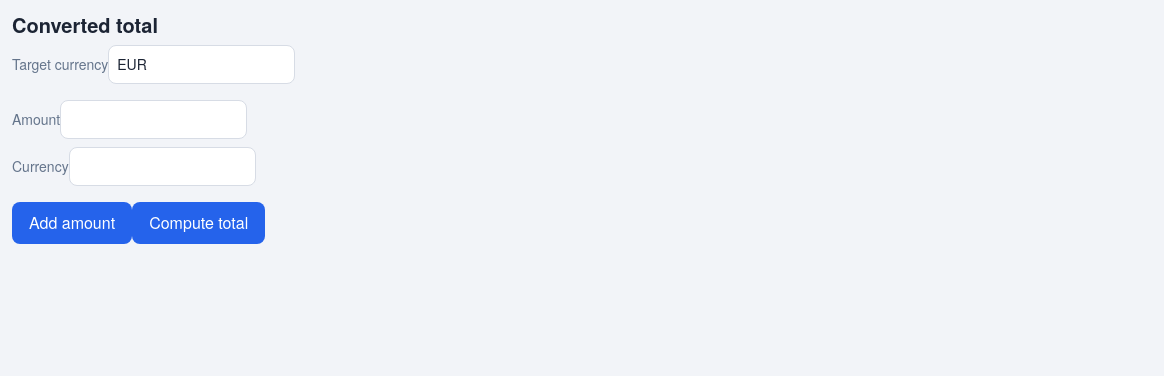
Test: ConvertedTotalCard › permet d'ajouter une ligne de montant
The image size is (1164, 376).
Expected: the number of list items with test id "exchange-amount-row" is 1, [12, 100, 256, 186]
What coordinates should you click on to do the following:
click the button with test id "exchange-add"
I would click on:
 (72, 223)
Its box is [12, 202, 132, 244].
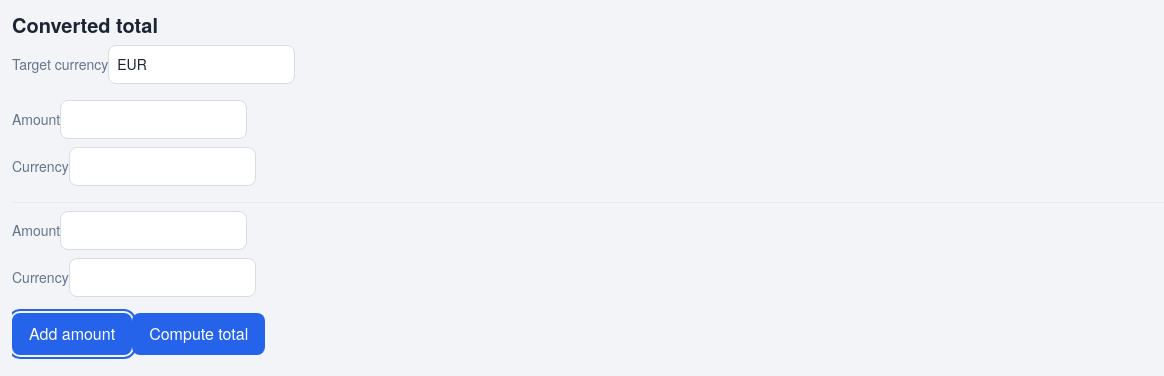
Now the number of list items with test id "exchange-amount-row" is 2, box [12, 92, 1163, 203]; [12, 211, 256, 297]
